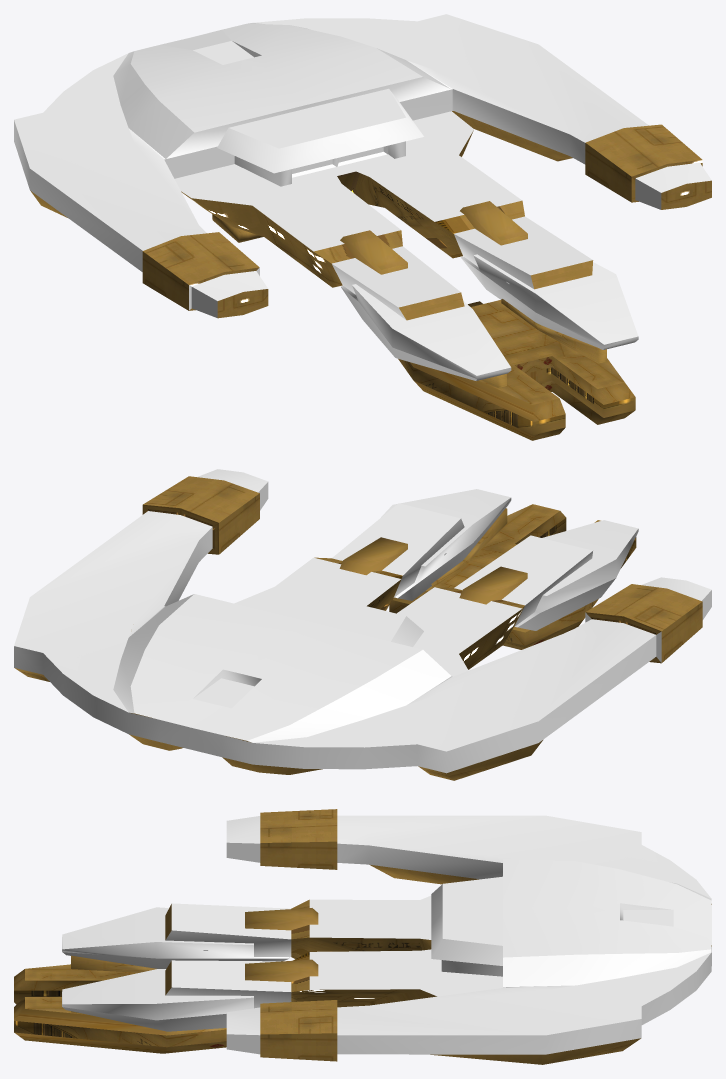
Rendered from Car_Tonga.fbx.
The picture shows the model from 3 angles, top to bottom: view 1: azimuth 30°, elevation 25°; view 2: azimuth 150°, elevation 25°; view 3: azimuth 270°, elevation 25°; orthographic projection. The views are drawn at different scales.
Parts seen in each view (by area): view 1: Car_Tonga; view 2: Car_Tonga; view 3: Car_Tonga.
Part boxes in pixels (x1,y1,x2,y2): Car_Tonga: (14,14,711,440); Car_Tonga: (14,469,711,780); Car_Tonga: (14,809,711,1064).
Bounding box in the file's own units: 576 × 151 × 759.
Materials: 1 (1 with a texture image).
